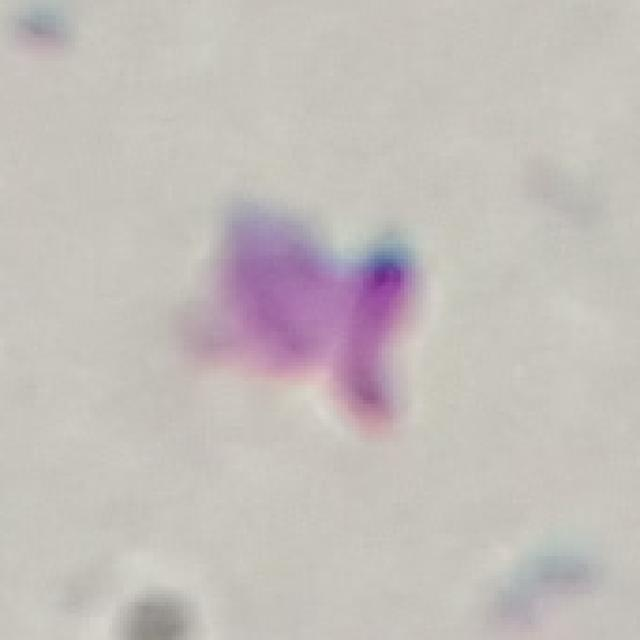non-sperm: (200, 213, 416, 436)
